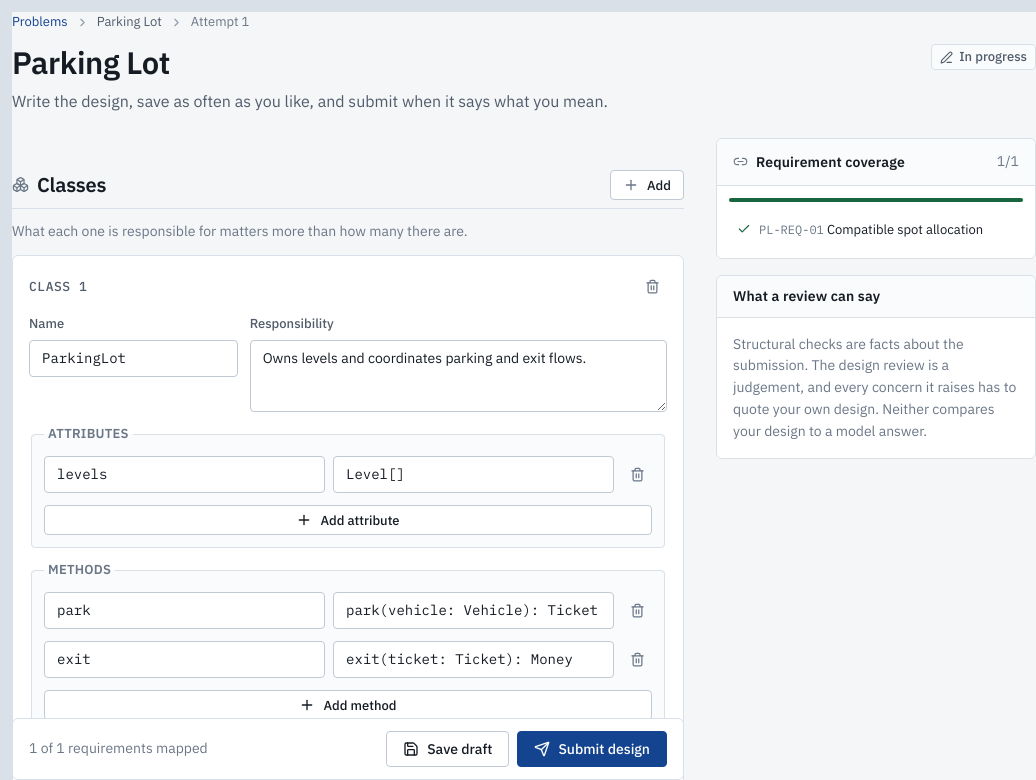
Test: the attempt workspace › reports what would block a submission after a save
Click the button "Save draft" at (448, 749), box [386,731,509,767]
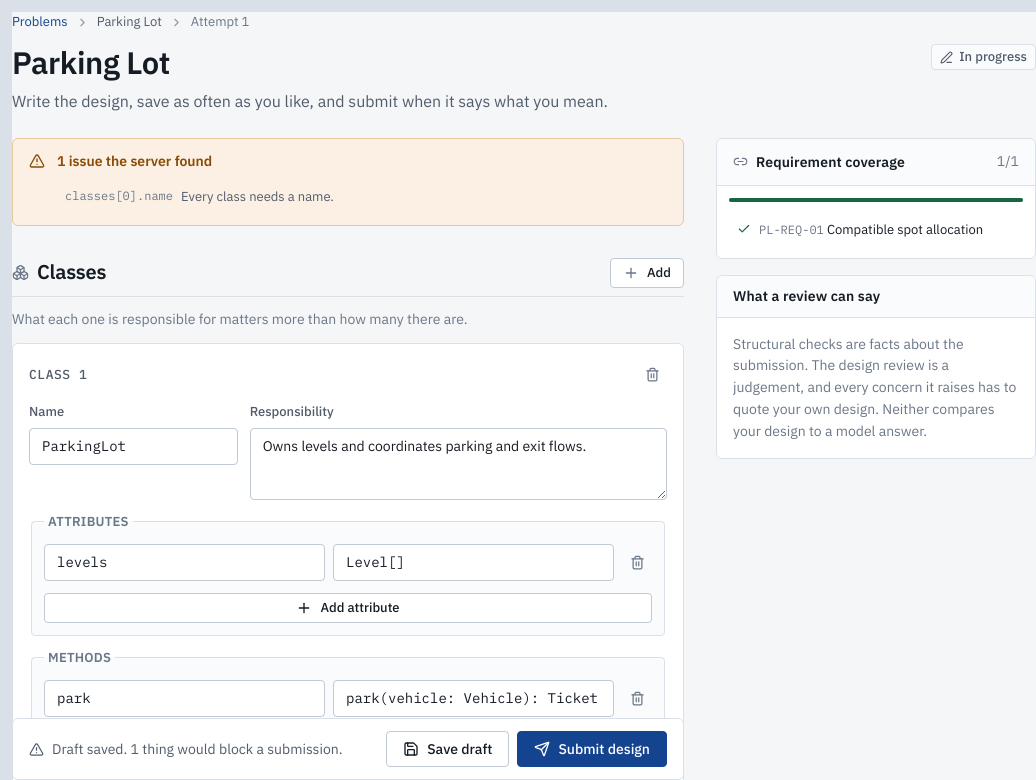
Result: the text "Draft saved. 1 thing would block a submission." is shown at [29,738,342,760]
Result: the text "Every class needs a name." is shown at [181,187,334,207]
